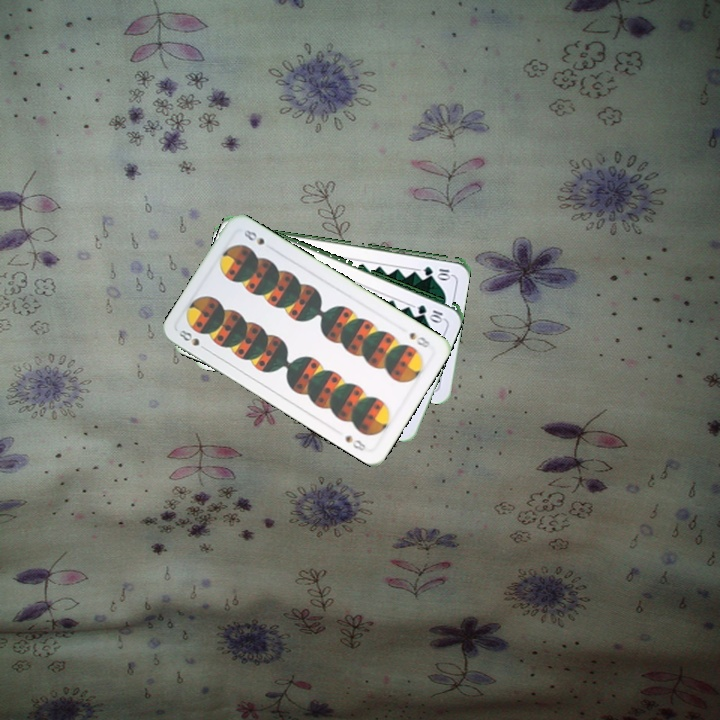G10: (413, 301, 446, 323), (420, 262, 454, 279)
S8: (175, 326, 202, 349), (405, 328, 433, 350)
